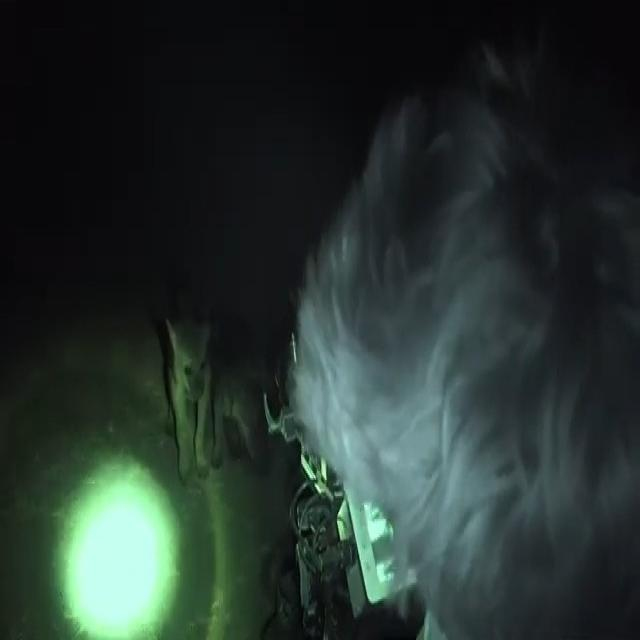animal: (152, 274, 277, 501)
human: (294, 14, 640, 635)
unknown: (43, 424, 182, 640)
